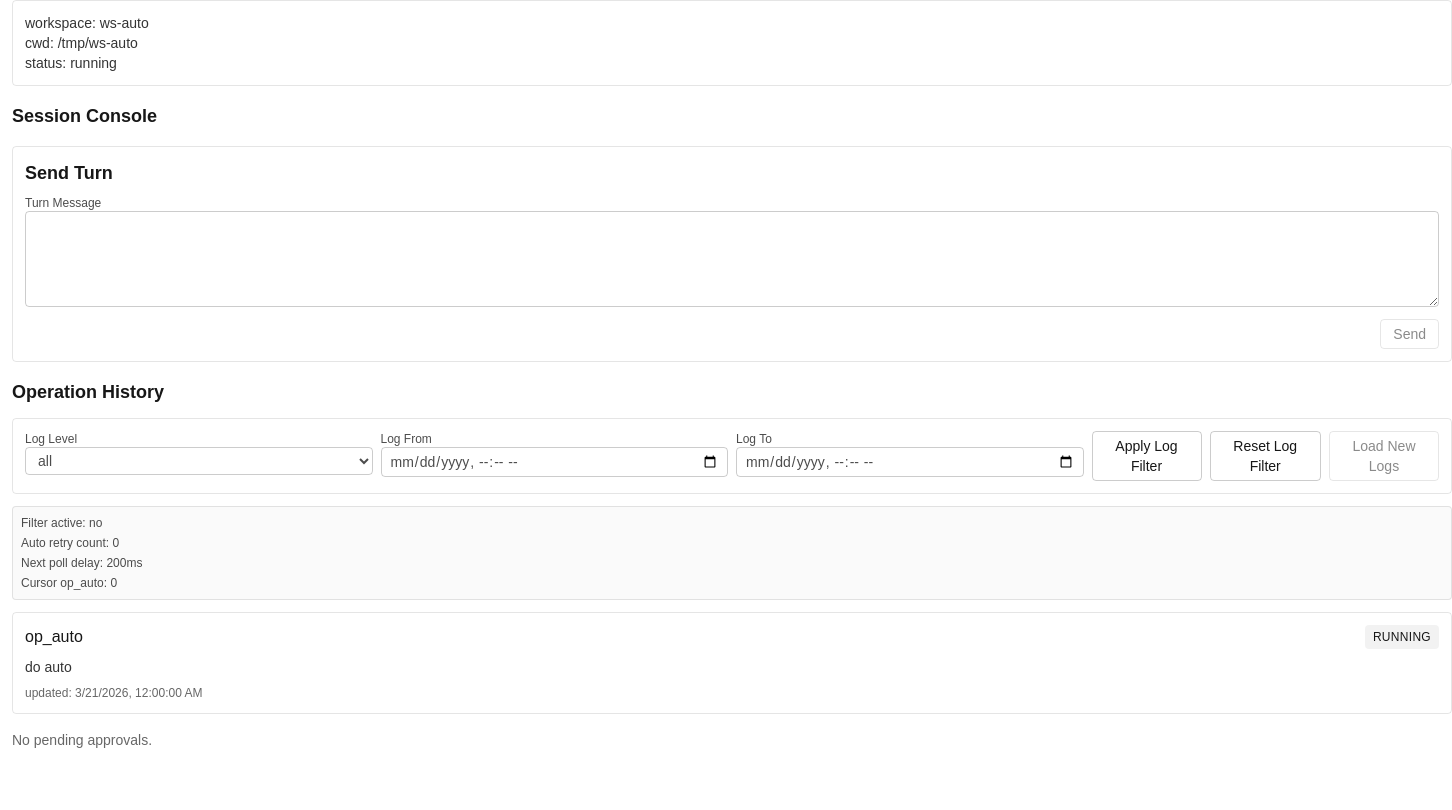
Test: SessionDetailLive › auto-loads incremental logs by polling when filter is active
The width and height of the screenshot is (1452, 810).
Select "error" in the dropdown labelled "Log Level". click: (199, 461)
box: [25,447,372,475]
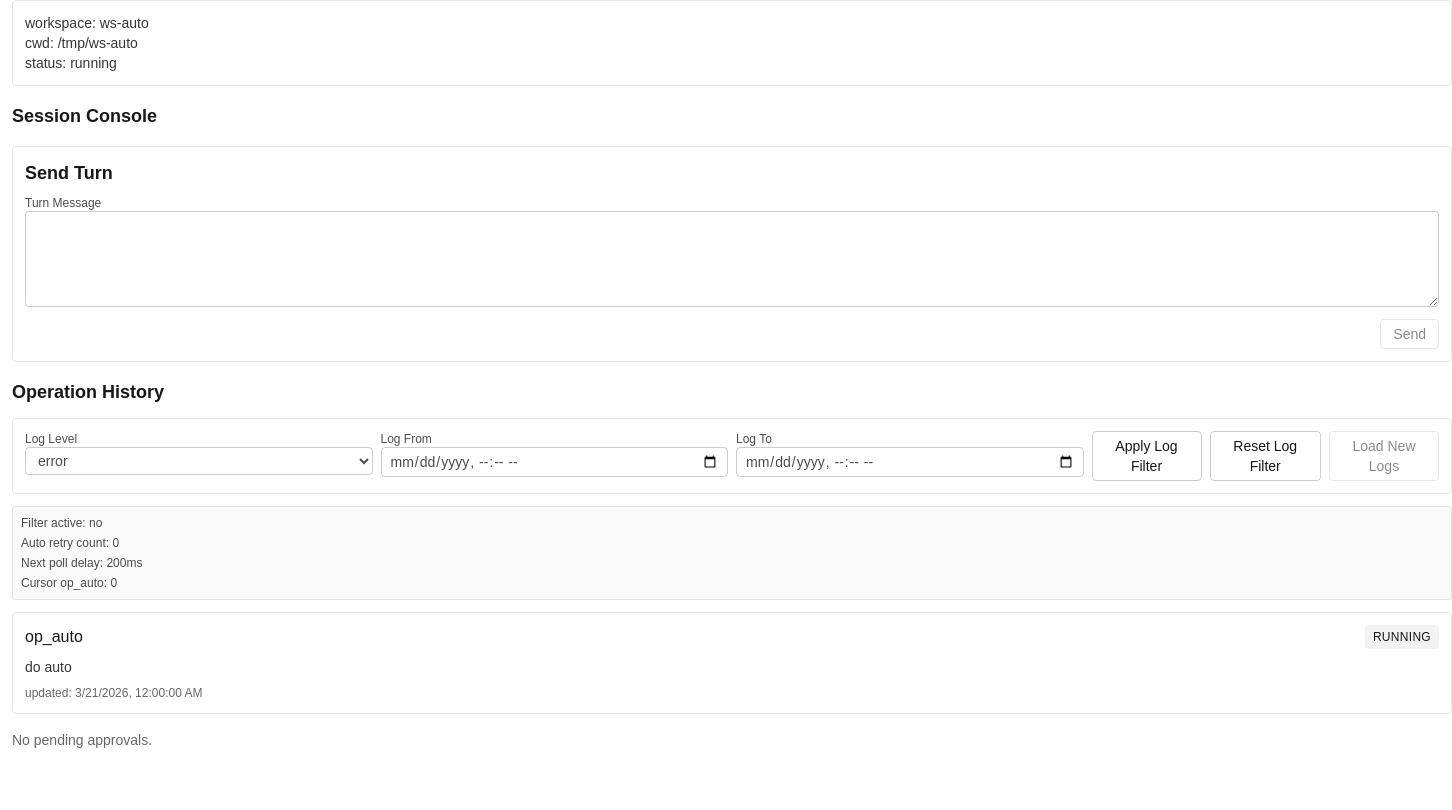
Click the button "Apply Log Filter". click: (1146, 456)
box: [1092,431,1202,481]
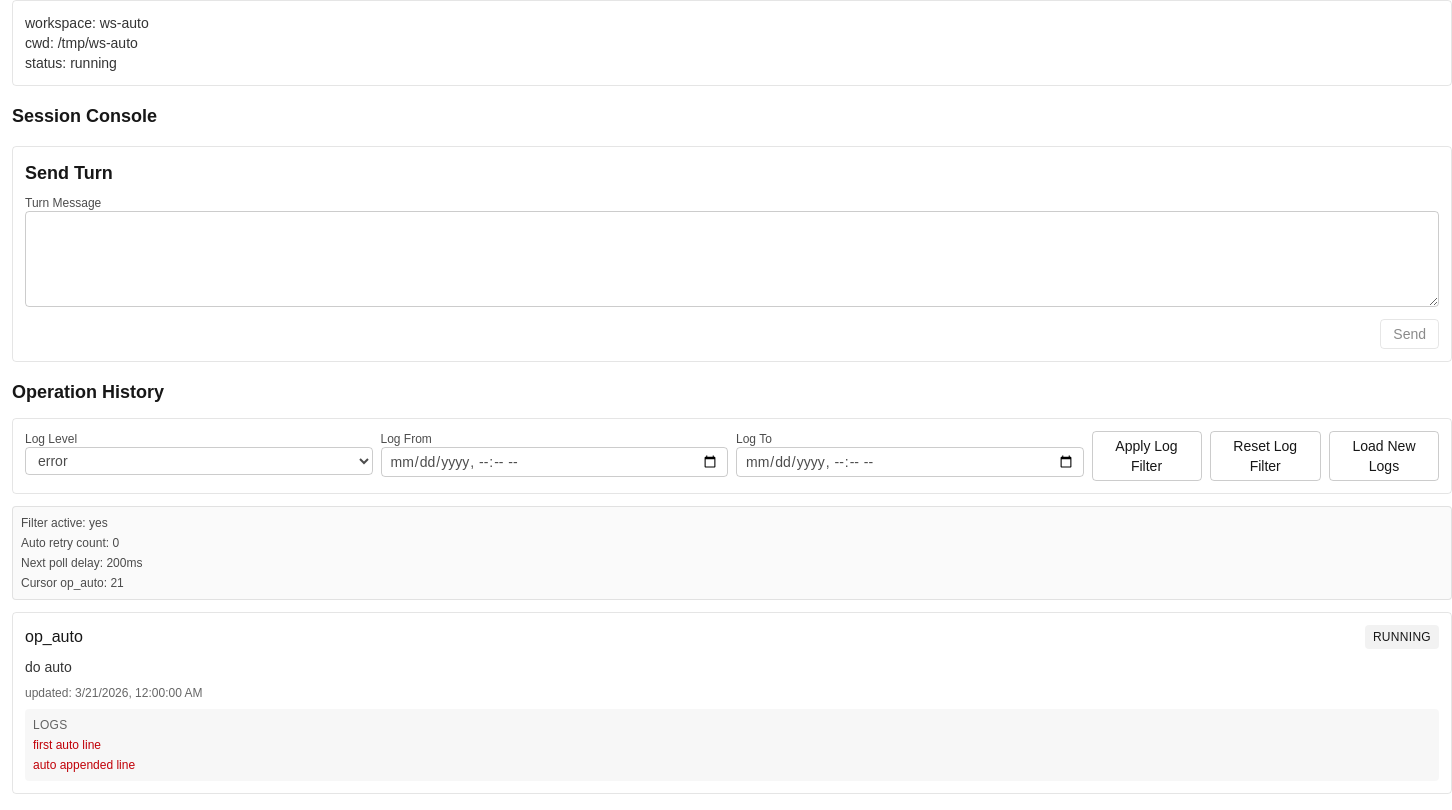
expect the list item "first auto line" is shown: met, box [33,738,101,752]
expect the list item "auto appended line" is shown: met, box [33,758,135,772]
